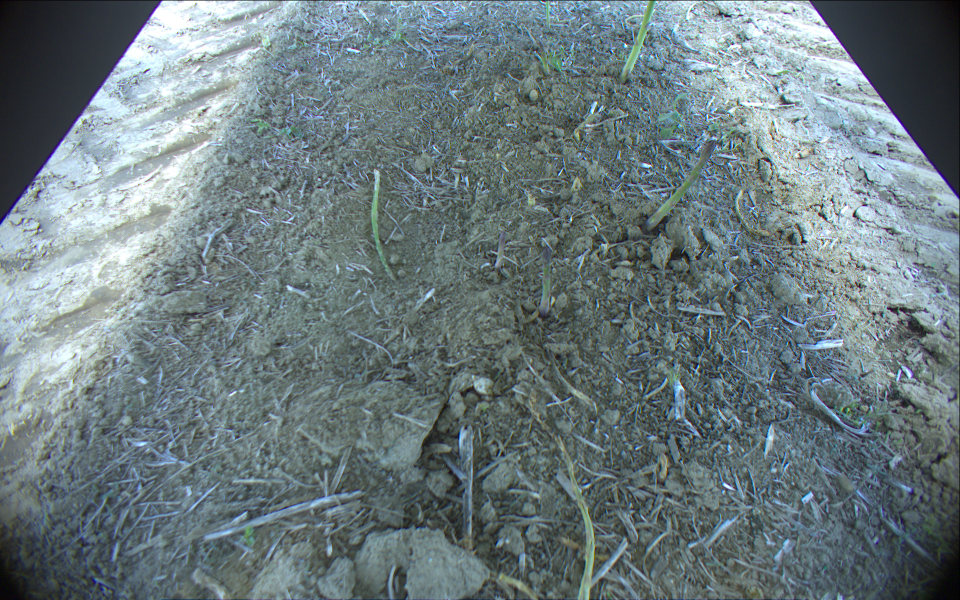aspa: (641, 139, 718, 234), (558, 434, 595, 600), (617, 1, 657, 84), (370, 168, 395, 278), (733, 190, 771, 235), (538, 245, 553, 317), (495, 229, 505, 271), (545, 1, 553, 28)
